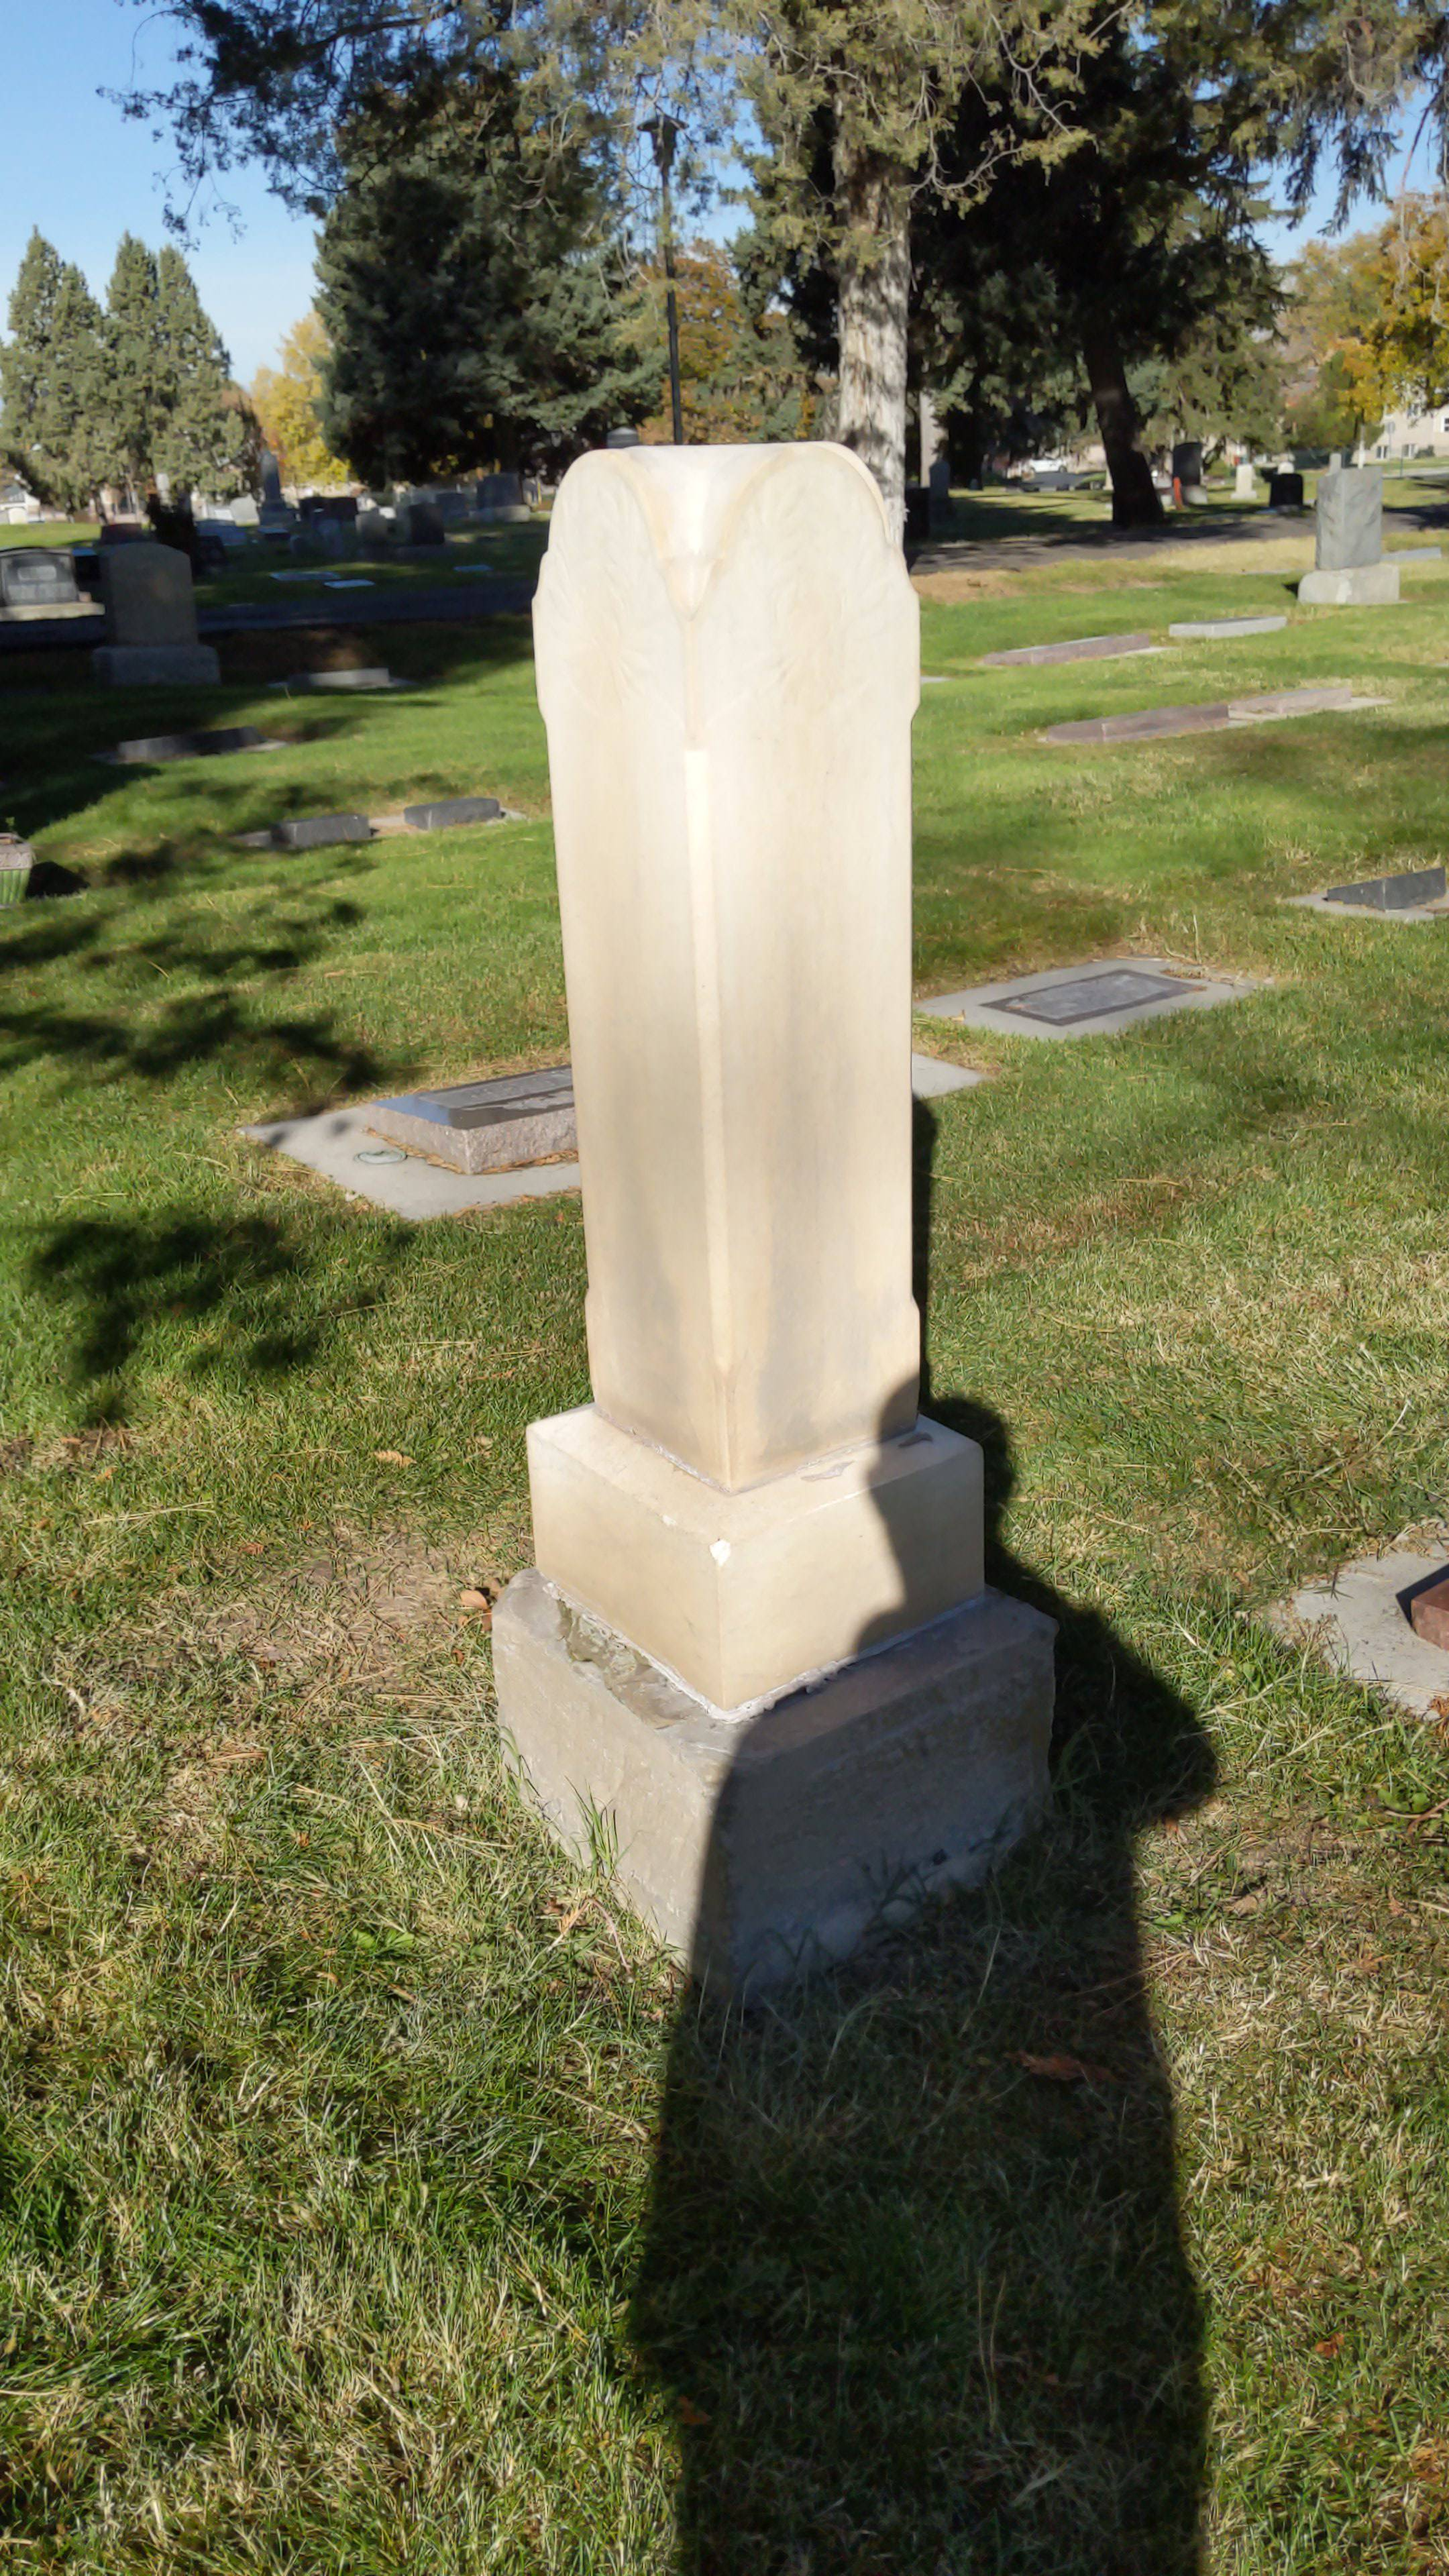obelisk: (529, 432, 991, 1713)
